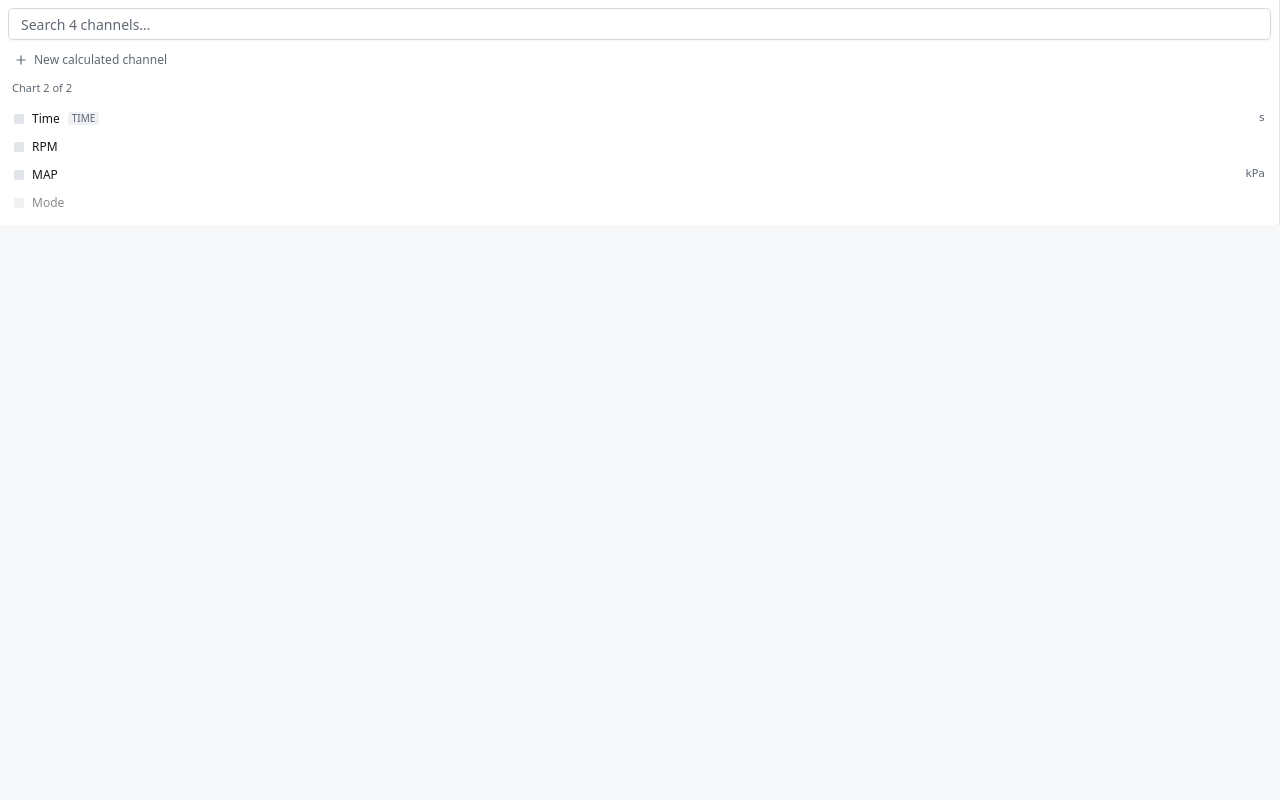
Test: calculated channel actions › New calculated channel opens the editor
Click the button "New calculated channel" at [100, 60], box [8,48,1271,72]
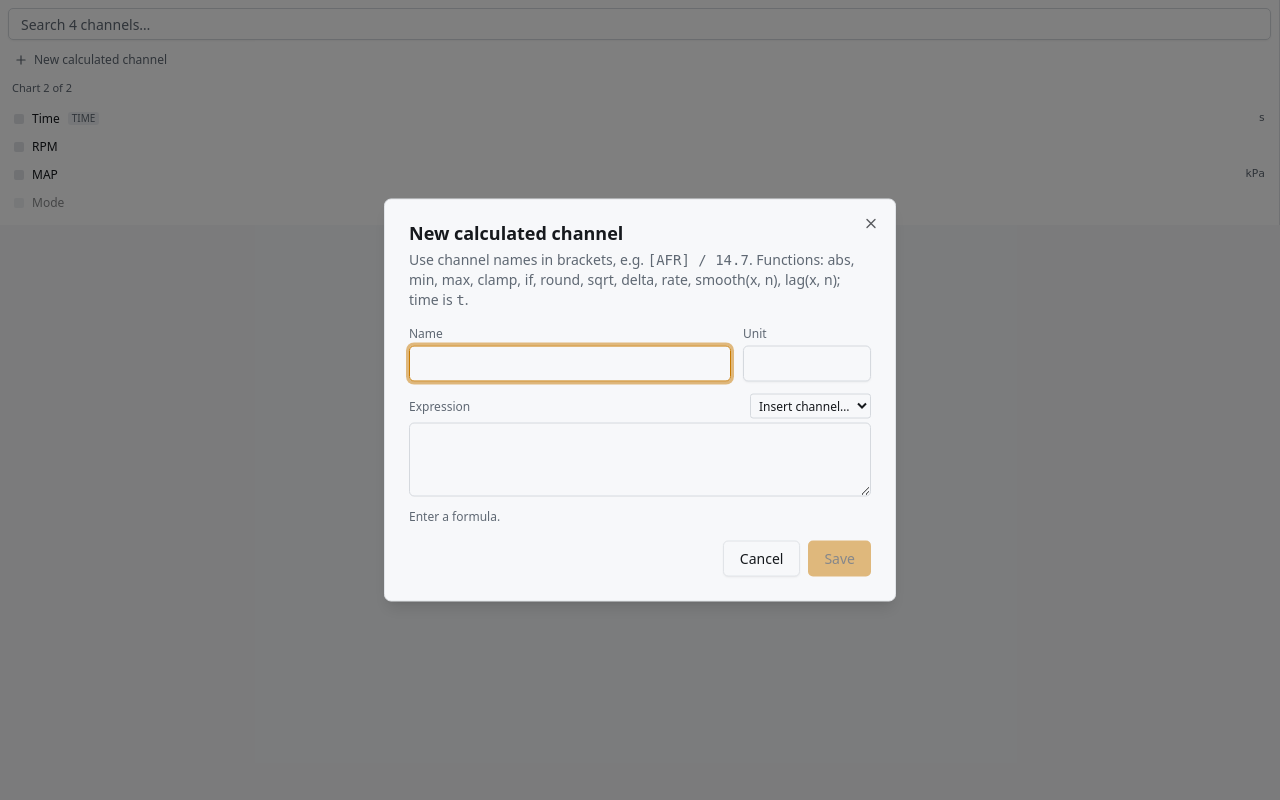
Expected: the dialog "New calculated channel" is shown, [384,198,896,602]
